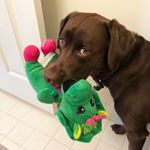puppy: (41, 8, 150, 95)
